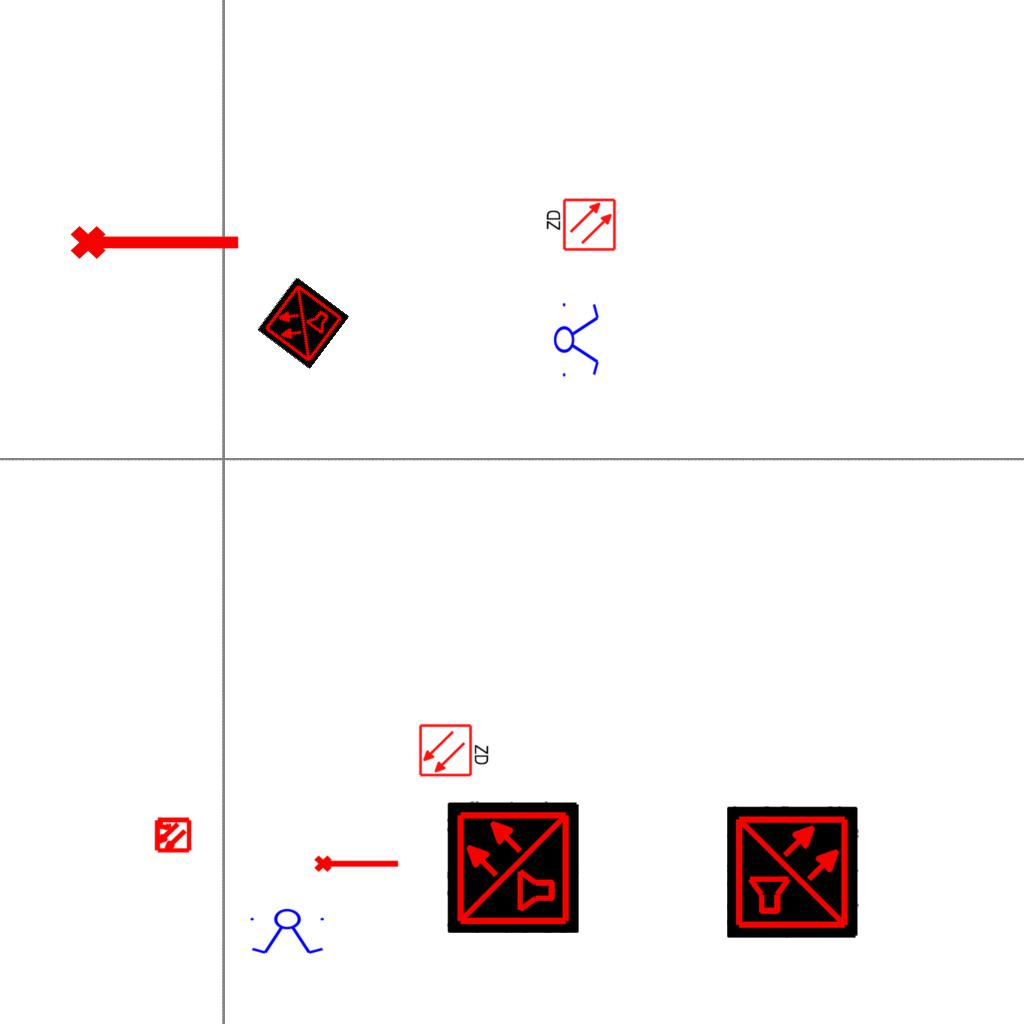ASR_Ansaugoeffnung: (68, 217, 244, 263), (313, 851, 401, 874)
OKW_Multisensormelder_(Kombination_optischer_Rauch-Kahlenmonoxid_Waerme-Melder): (727, 806, 859, 938), (447, 801, 579, 933), (256, 276, 350, 370)
OT_Multisensormelder_(Kombination_RMO_WMD): (433, 801, 592, 960), (144, 807, 200, 863)
Serienschalter: (246, 908, 330, 956), (553, 297, 601, 381)
ZD_Melder_in_Zwischendecke_mit_Revisionsoeffnung_mind_40_x_40_cm: (543, 197, 617, 254), (418, 721, 492, 778)
